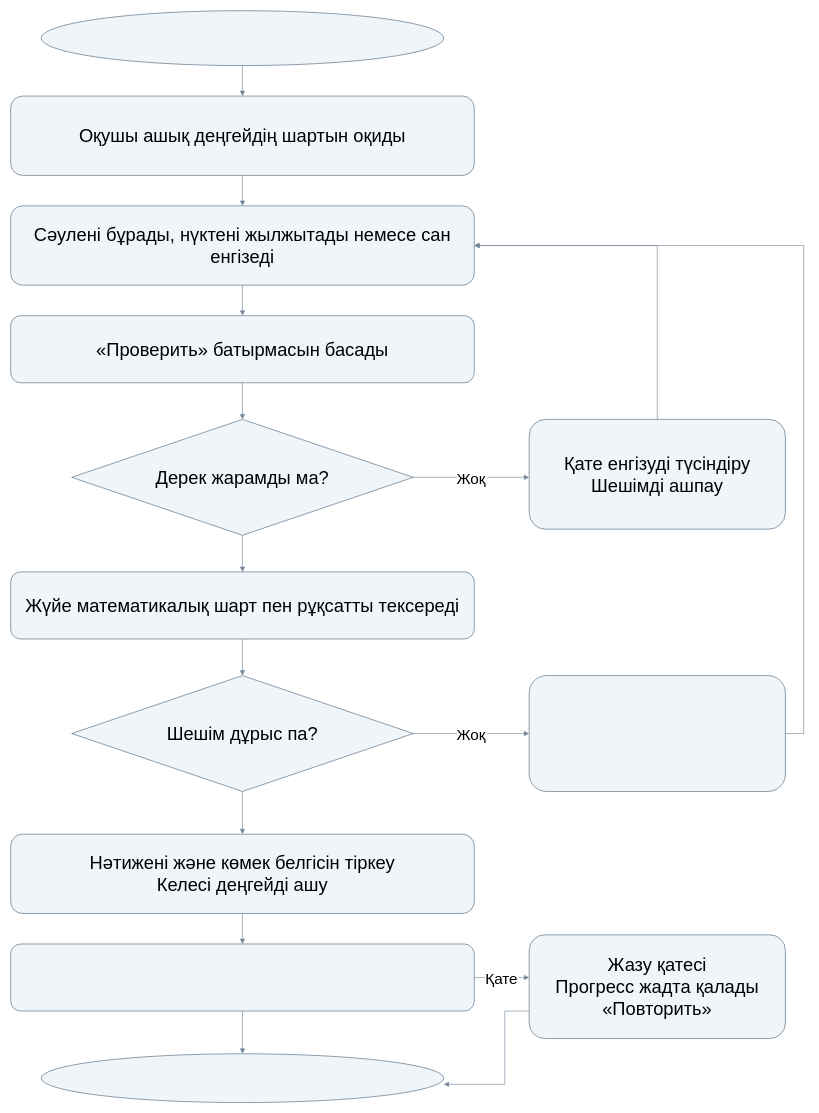
This 819x1113 diagram has some shape labels left out. The shapes that lost their labels are listed below. From the top down, each one's centre as x and y in pixels, then its label:
the point at 242,38: Бастау
the point at 657,733: Ауытқуды көрсету Қайта әрекет ету немесе көмек алу
the point at 242,977: Прогресті құрылғыға сақтау
the point at 242,1078: Нәтиже және түсіндірме көрсетілді
